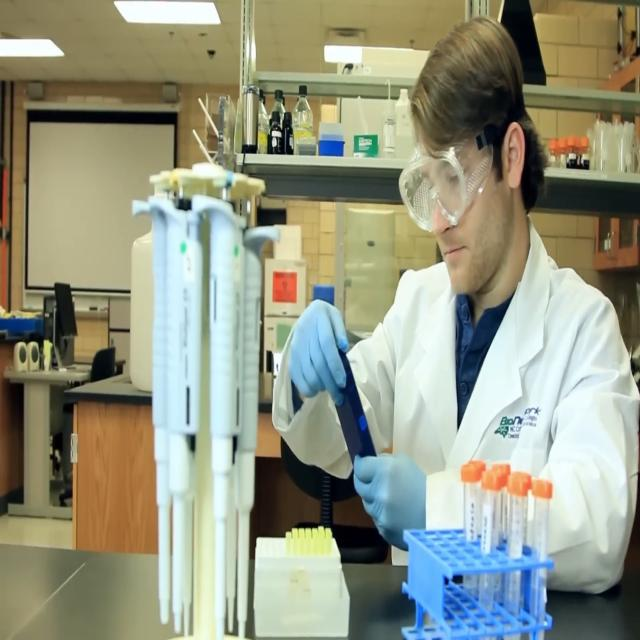googles: (396, 133, 502, 240)
labcoat: (270, 205, 640, 611)
